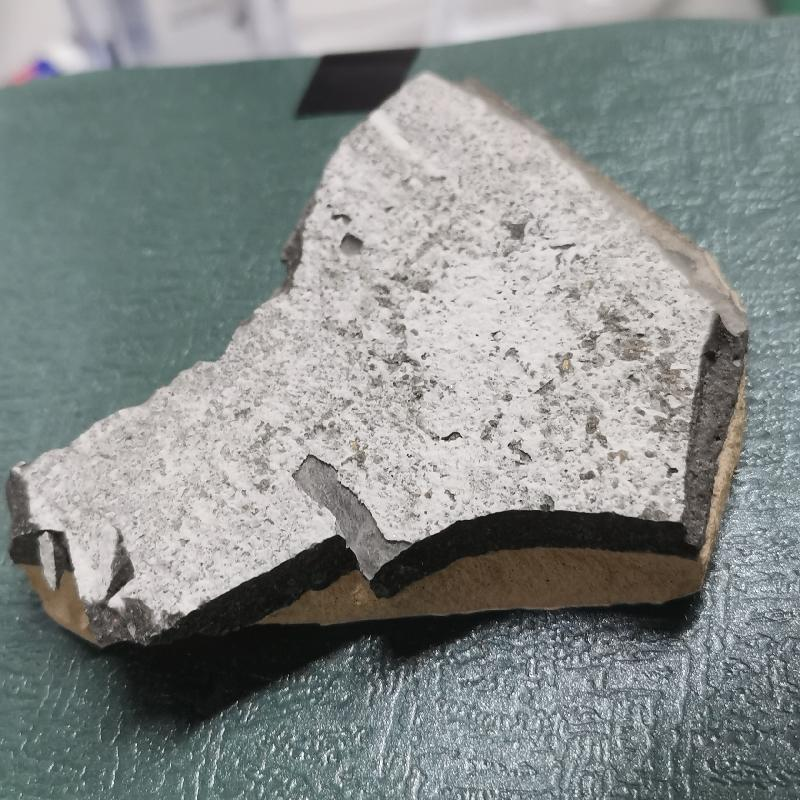tile: (14, 76, 762, 658)
